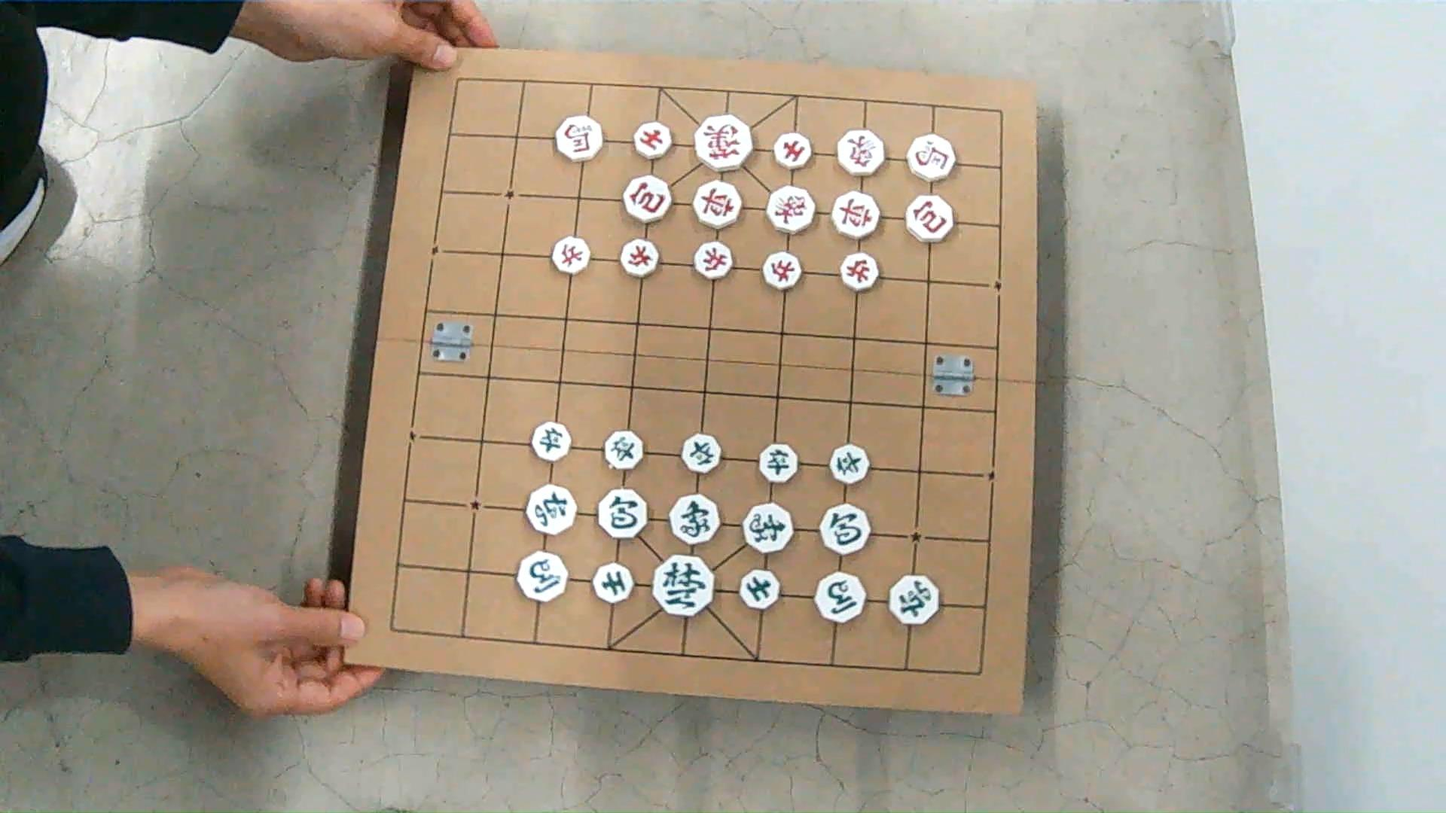cha_green: (889, 575, 938, 625), (526, 485, 575, 534)
cha_red: (831, 192, 879, 239), (694, 181, 740, 228)
jol_green: (758, 443, 798, 483), (830, 444, 868, 484), (532, 422, 570, 461), (682, 434, 720, 473), (605, 431, 642, 470)
jol_red: (552, 236, 589, 274), (621, 239, 658, 277), (842, 253, 879, 291), (695, 242, 732, 279), (764, 252, 801, 289)
ma_green: (517, 552, 566, 601), (816, 573, 864, 623)
ma_red: (907, 135, 953, 181), (555, 116, 602, 161)
po_green: (597, 489, 646, 539), (821, 504, 870, 554)
po_red: (623, 176, 670, 223), (905, 196, 953, 242)
sa_green: (593, 563, 633, 603), (740, 570, 779, 610)
sa_red: (633, 121, 672, 160), (773, 132, 811, 169)
sang_green: (743, 503, 792, 553), (670, 495, 719, 544)
sang_red: (767, 186, 814, 233), (837, 130, 883, 176)
wang_green: (653, 555, 714, 617)
wang_red: (695, 114, 752, 171)
